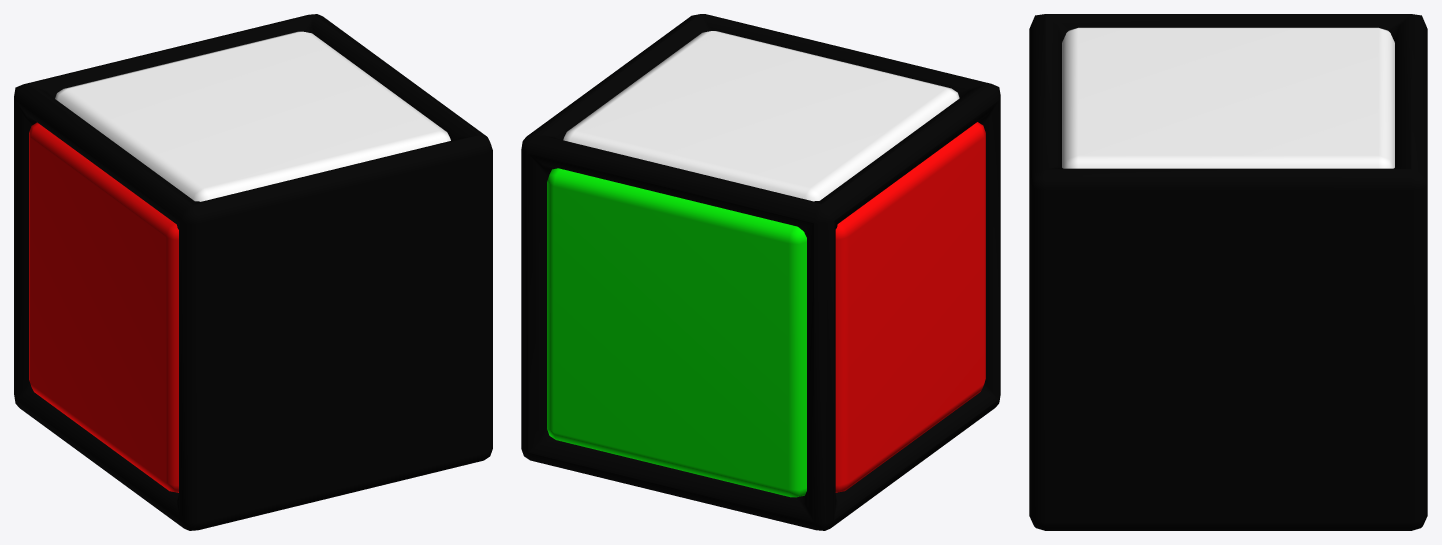
The picture shows the model from 3 angles, left to right: view 1: azimuth 30°, elevation 25°; view 2: azimuth 150°, elevation 25°; view 3: azimuth 270°, elevation 25°; orthographic projection. The views are drawn at different scales.
Parts seen in each view (by area): view 1: Cube.009; view 2: Cube.009; view 3: Cube.009.
Part boxes in pixels (x1=…): Cube.009: x1=14, y1=14, x2=492, y2=530; Cube.009: x1=521, y1=14, x2=1000, y2=530; Cube.009: x1=1029, y1=14, x2=1427, y2=530.
Bounding box in the file's own units: 2 × 2 × 2.
